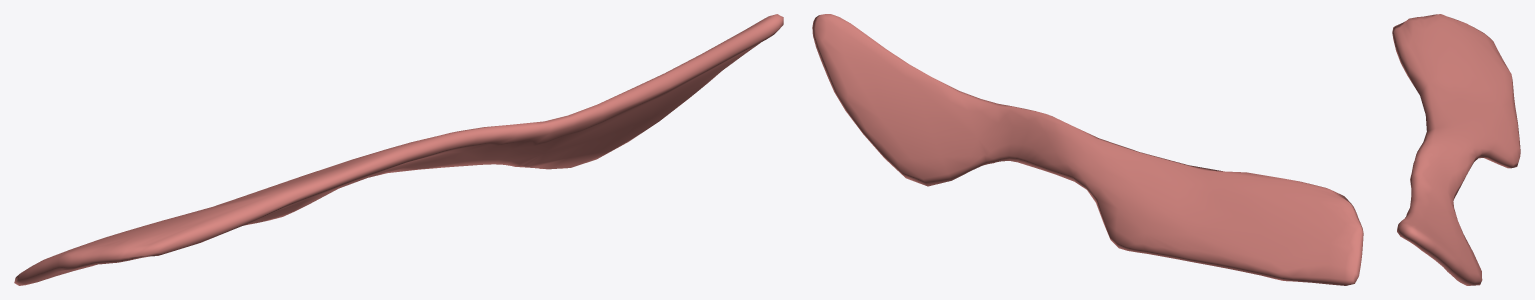
The picture shows the model from 3 angles, left to right: view 1: azimuth 30°, elevation 25°; view 2: azimuth 150°, elevation 25°; view 3: azimuth 270°, elevation 25°; orthographic projection. The views are drawn at different scales.
Visible parts, largest first — view 1: ZA_88bb2de89349050a; view 2: ZA_88bb2de89349050a; view 3: ZA_88bb2de89349050a.
Part boxes in pixels (<box>): ZA_88bb2de89349050a: <box>14,14,783,285</box>; ZA_88bb2de89349050a: <box>812,14,1363,285</box>; ZA_88bb2de89349050a: <box>1392,14,1520,285</box>.
Size of the model in its own units: 0.0225 by 0.00423 by 0.00409.
